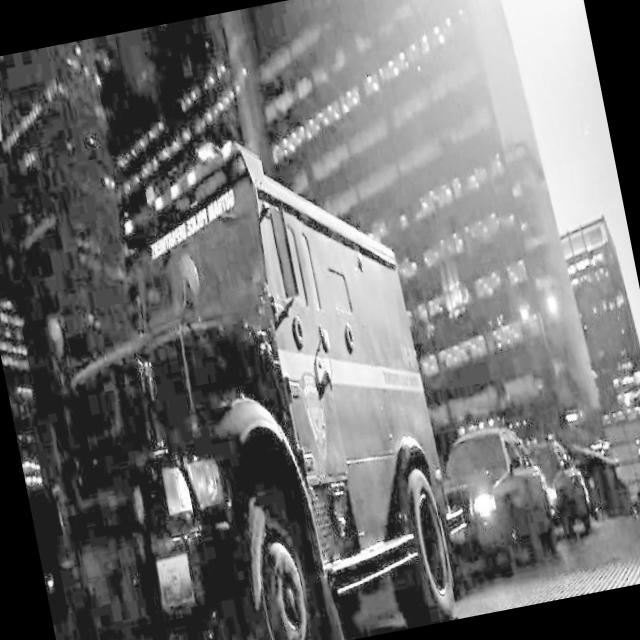Car: (0, 92, 483, 640), (423, 396, 570, 591), (507, 418, 594, 546)
